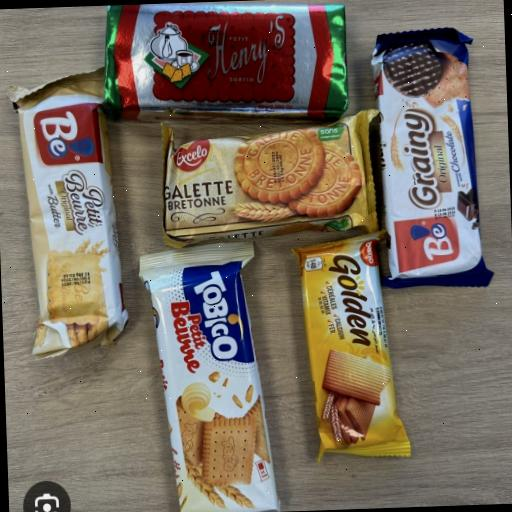golden: (73, 0, 376, 164)
